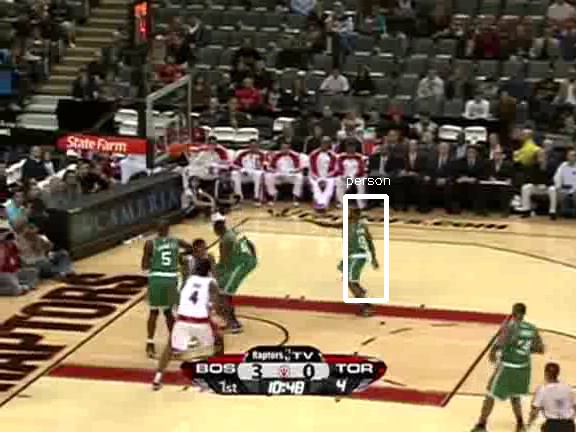person: (341, 212, 375, 293), (340, 212, 374, 293), (342, 212, 376, 293), (341, 211, 375, 292), (341, 213, 375, 294)
target_negative: (240, 93, 527, 418), (183, 12, 523, 249), (280, 281, 569, 341), (127, 372, 334, 432), (522, 366, 551, 416), (463, 407, 489, 418)
